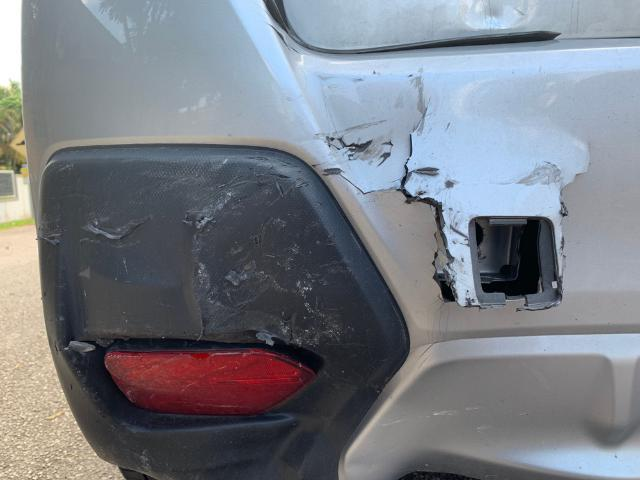crack: (338, 89, 464, 313)
no part: (468, 216, 564, 312)
